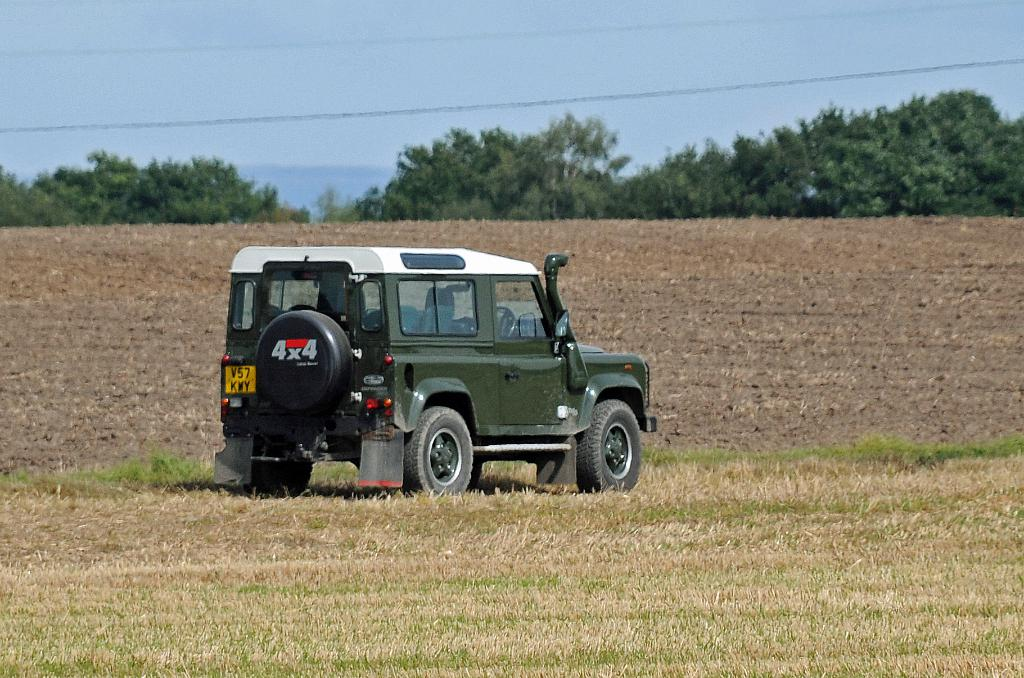mobil: (222, 241, 657, 503)
